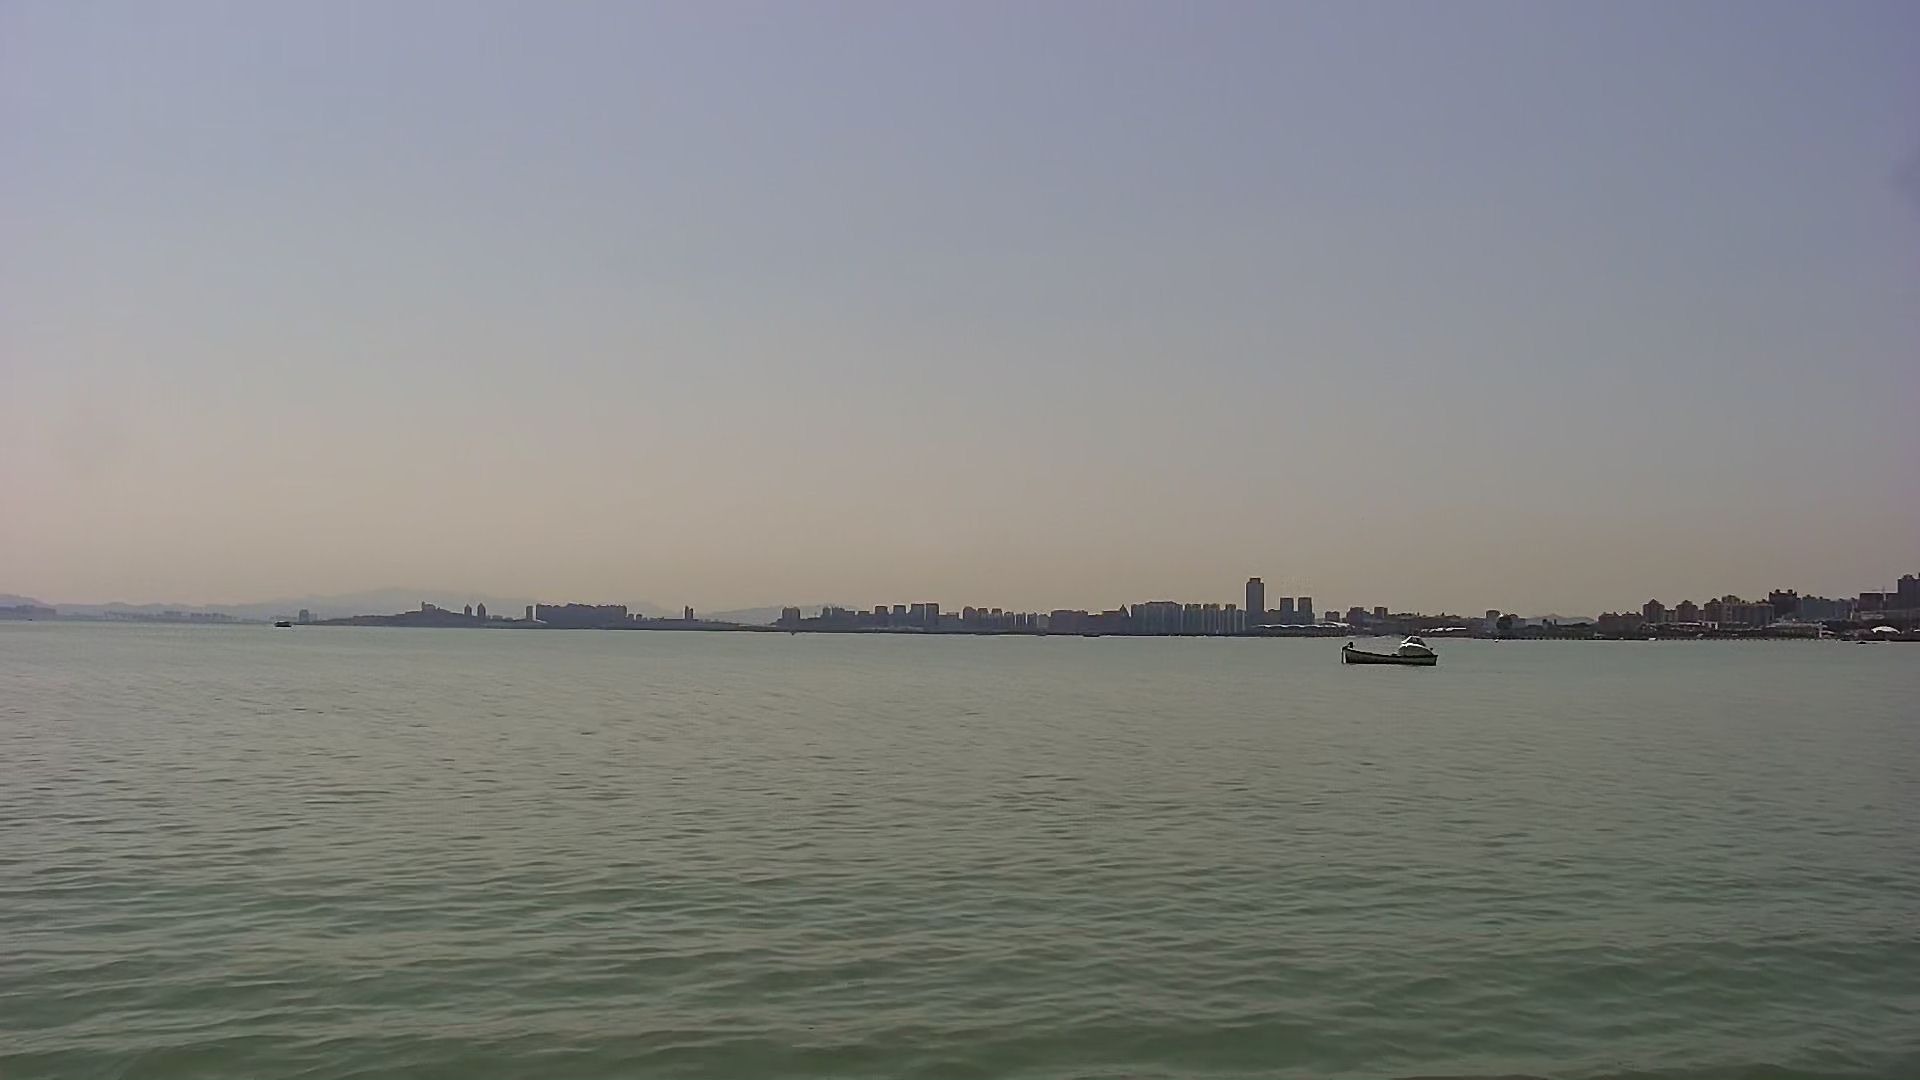boat: (1340, 632, 1447, 673)
